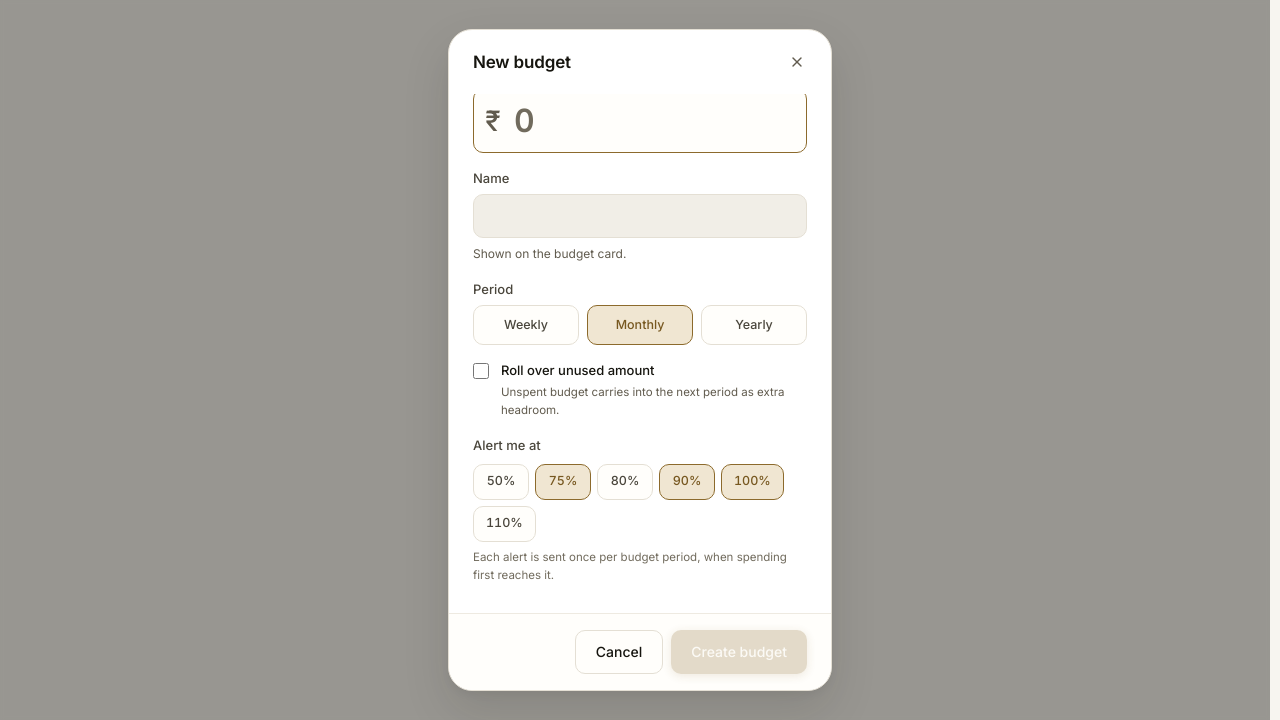
<BudgetFormSheet> alert thresholds › can turn alerts off for a budget
This screenshot has width=1280, height=720.
(page scrolled)
Click the button "75%" at (563, 482), box x1=535 y1=464 x2=591 y2=500
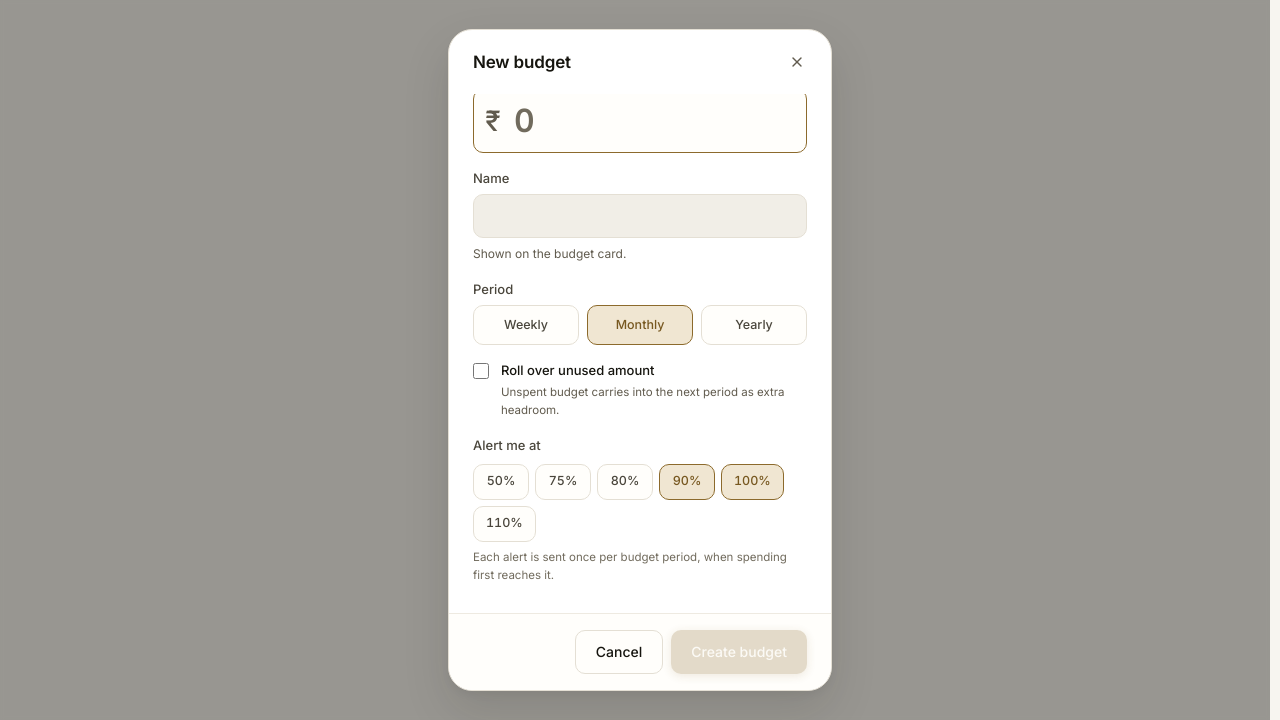
Click the button "90%" at (687, 482), box x1=659 y1=464 x2=715 y2=500
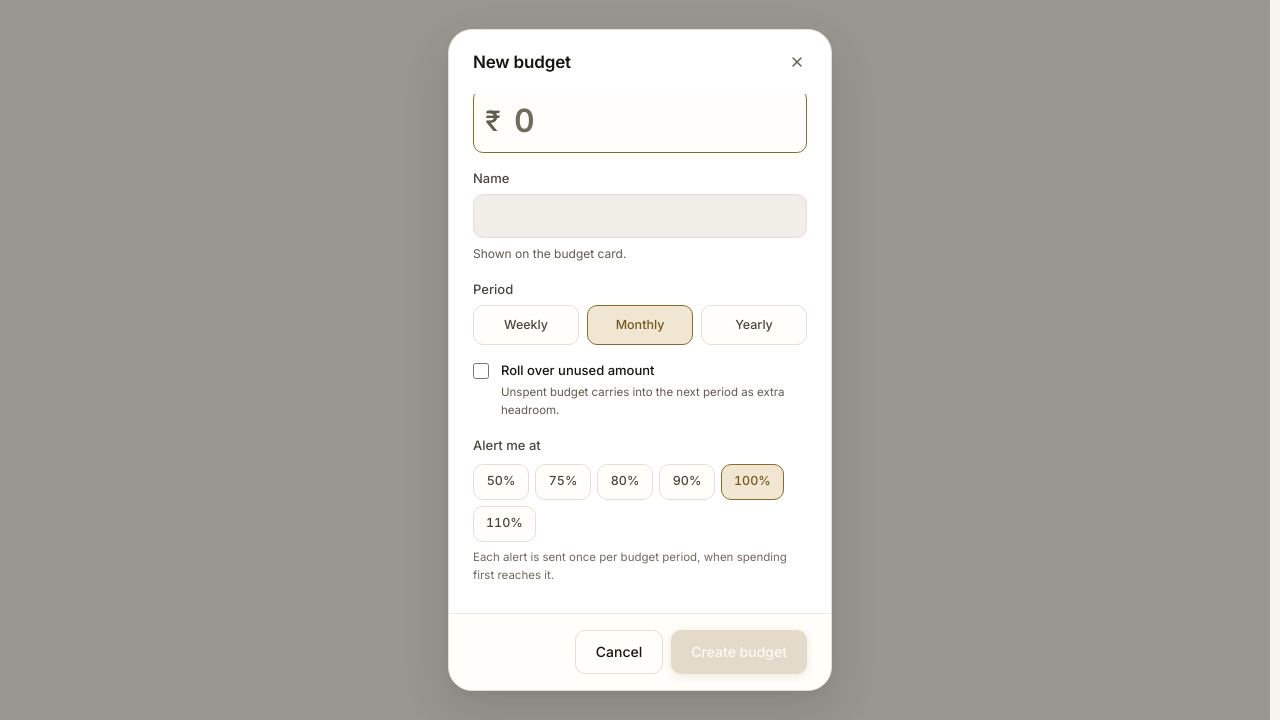
Click the button "100%" at (752, 482), box x1=721 y1=464 x2=784 y2=500
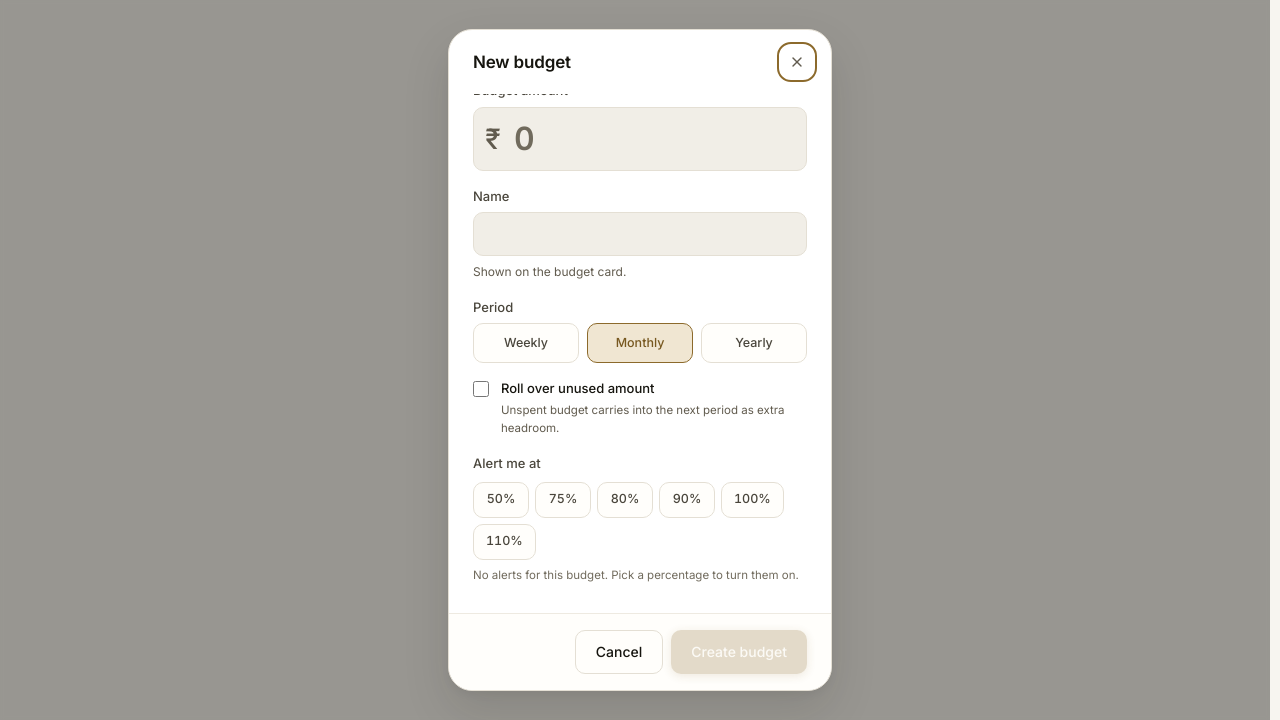
Check: the text "No alerts for this budget" is shown, box x1=473 y1=568 x2=799 y2=582
